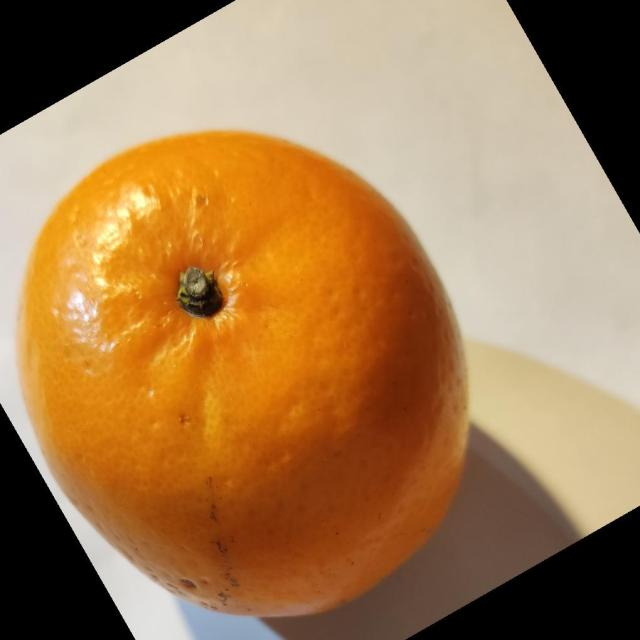fresh orange: (16, 127, 471, 619)
